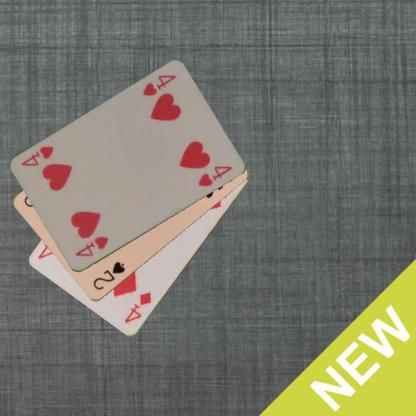2s: (90, 259, 127, 292)
4d: (122, 290, 152, 324)
4h: (140, 72, 178, 98), (72, 234, 110, 259)
